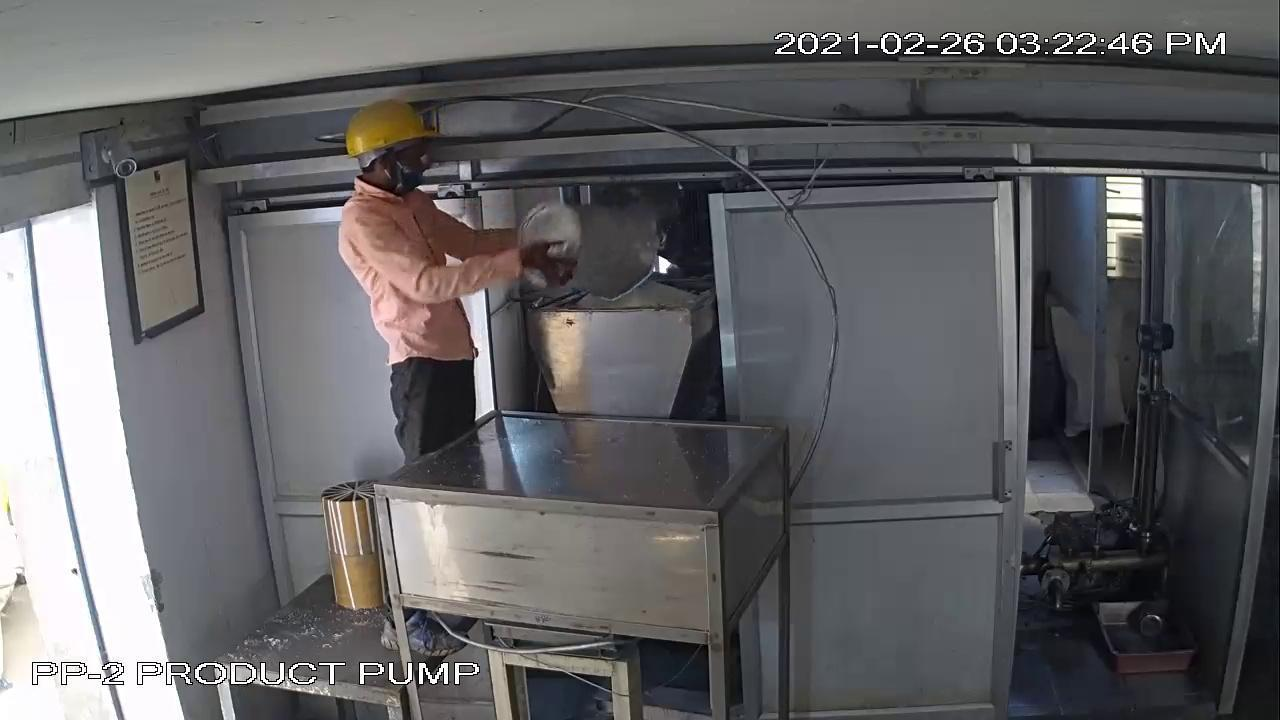helmet: (341, 90, 444, 162)
